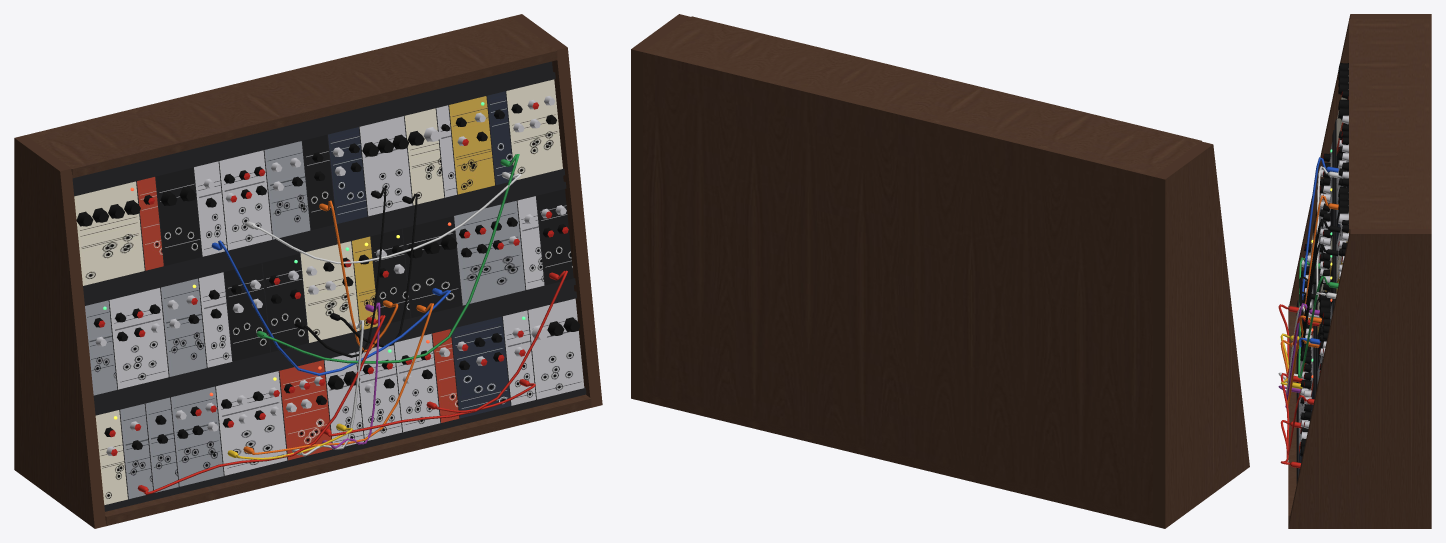
The model's file is modular-synth.glb.
3 views of the same model, side by side, from view 1: azimuth 30°, elevation 25°; view 2: azimuth 150°, elevation 25°; view 3: azimuth 270°, elevation 25° (orthographic). The views are drawn at different scales.
Parts seen in each view (by area): view 1: modular_R08; view 2: modular_R08; view 3: modular_R08.
Part boxes in pixels (x1,y1,x2,y2): modular_R08: [14, 14, 602, 528]; modular_R08: [631, 14, 1249, 528]; modular_R08: [1278, 14, 1431, 528].
Size of the model in its own units: 0.8 by 0.5 by 0.2356.
1 material, 1 textured.
